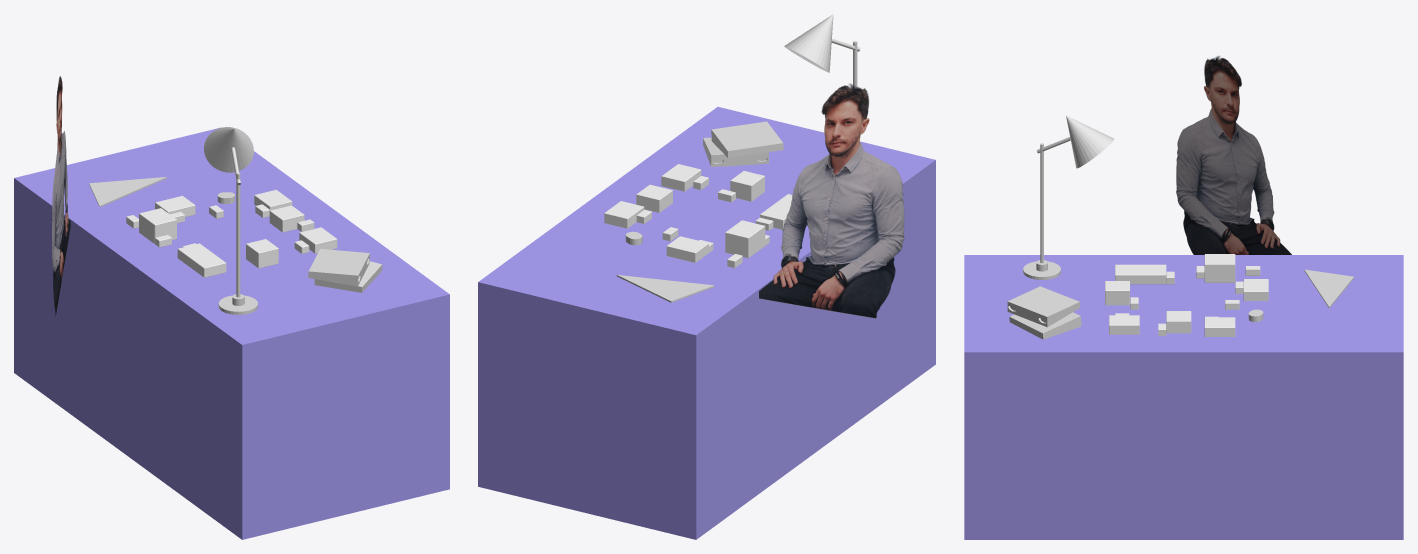
The model's file is pageLayout-09.glb.
3 views of the same model, side by side, from view 1: azimuth 30°, elevation 25°; view 2: azimuth 150°, elevation 25°; view 3: azimuth 270°, elevation 25° (orthographic). The views are drawn at different scales.
Parts seen in each view (by area): view 1: deskPlane, Cylinder.014, pictureFrame, Cube.019, Plane.007, neighboar_002, neighboar_005, neighboar_003, neighboar_012, neighboar_010, Cube.018, neighboar_001 (+1 smaller); view 2: deskPlane, pictureFrame, Cube.019, Cylinder.014, Plane.007, neighboar_005, Cube.018, neighboar_001, neighboar_003, neighboar_012, neighboar_010, neighboar_015 (+1 smaller); view 3: deskPlane, pictureFrame, Cylinder.014, Cube.019, neighboar_002, Cube.018, Plane.007, neighboar_005, neighboar_015, neighboar_003, neighboar_010, neighboar_012 (+1 smaller).
Part boxes in pixels (<box>): deskPlane: <box>14,127,449,539</box>; Cylinder.014: <box>204,127,257,314</box>; pictureFrame: <box>52,76,70,316</box>; Cube.019: <box>308,249,369,286</box>; Plane.007: <box>89,177,166,206</box>; neighboar_002: <box>177,243,226,277</box>; neighboar_005: <box>139,208,176,243</box>; neighboar_003: <box>246,239,278,268</box>; neighboar_012: <box>269,205,304,232</box>; neighboar_010: <box>299,227,337,253</box>; Cube.018: <box>314,261,382,292</box>; neighboar_001: <box>155,196,195,216</box>; deskPlane: <box>478,107,935,539</box>; pictureFrame: <box>759,83,904,318</box>; Cube.019: <box>711,121,783,157</box>; Cylinder.014: <box>784,14,860,88</box>; Plane.007: <box>616,275,714,302</box>; neighboar_005: <box>725,220,765,258</box>; Cube.018: <box>703,137,768,166</box>; neighboar_001: <box>666,236,708,262</box>; neighboar_003: <box>730,171,764,201</box>; neighboar_012: <box>636,184,672,212</box>; neighboar_010: <box>661,164,701,191</box>; neighboar_015: <box>604,201,644,228</box>; deskPlane: <box>964,255,1403,539</box>; pictureFrame: <box>1176,56,1291,254</box>; Cylinder.014: <box>1023,115,1114,279</box>; Cube.019: <box>1007,286,1080,327</box>; neighboar_002: <box>1115,264,1166,284</box>; Cube.018: <box>1009,312,1081,339</box>; Plane.007: <box>1304,269,1353,308</box>; neighboar_005: <box>1204,254,1235,282</box>; neighboar_015: <box>1204,317,1235,336</box>; neighboar_003: <box>1105,281,1129,305</box>; neighboar_010: <box>1109,315,1139,334</box>; neighboar_012: <box>1166,311,1191,333</box>.
Size of the model in its own units: 159 by 206 by 212.
Materials: 3 (1 with a texture image).
